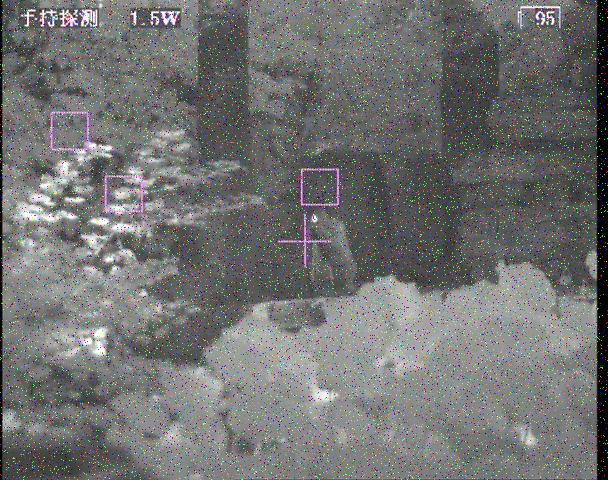my: (310, 212, 321, 224)
